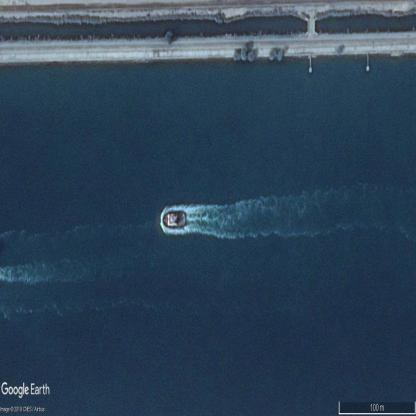ship: (164, 209, 186, 228)
